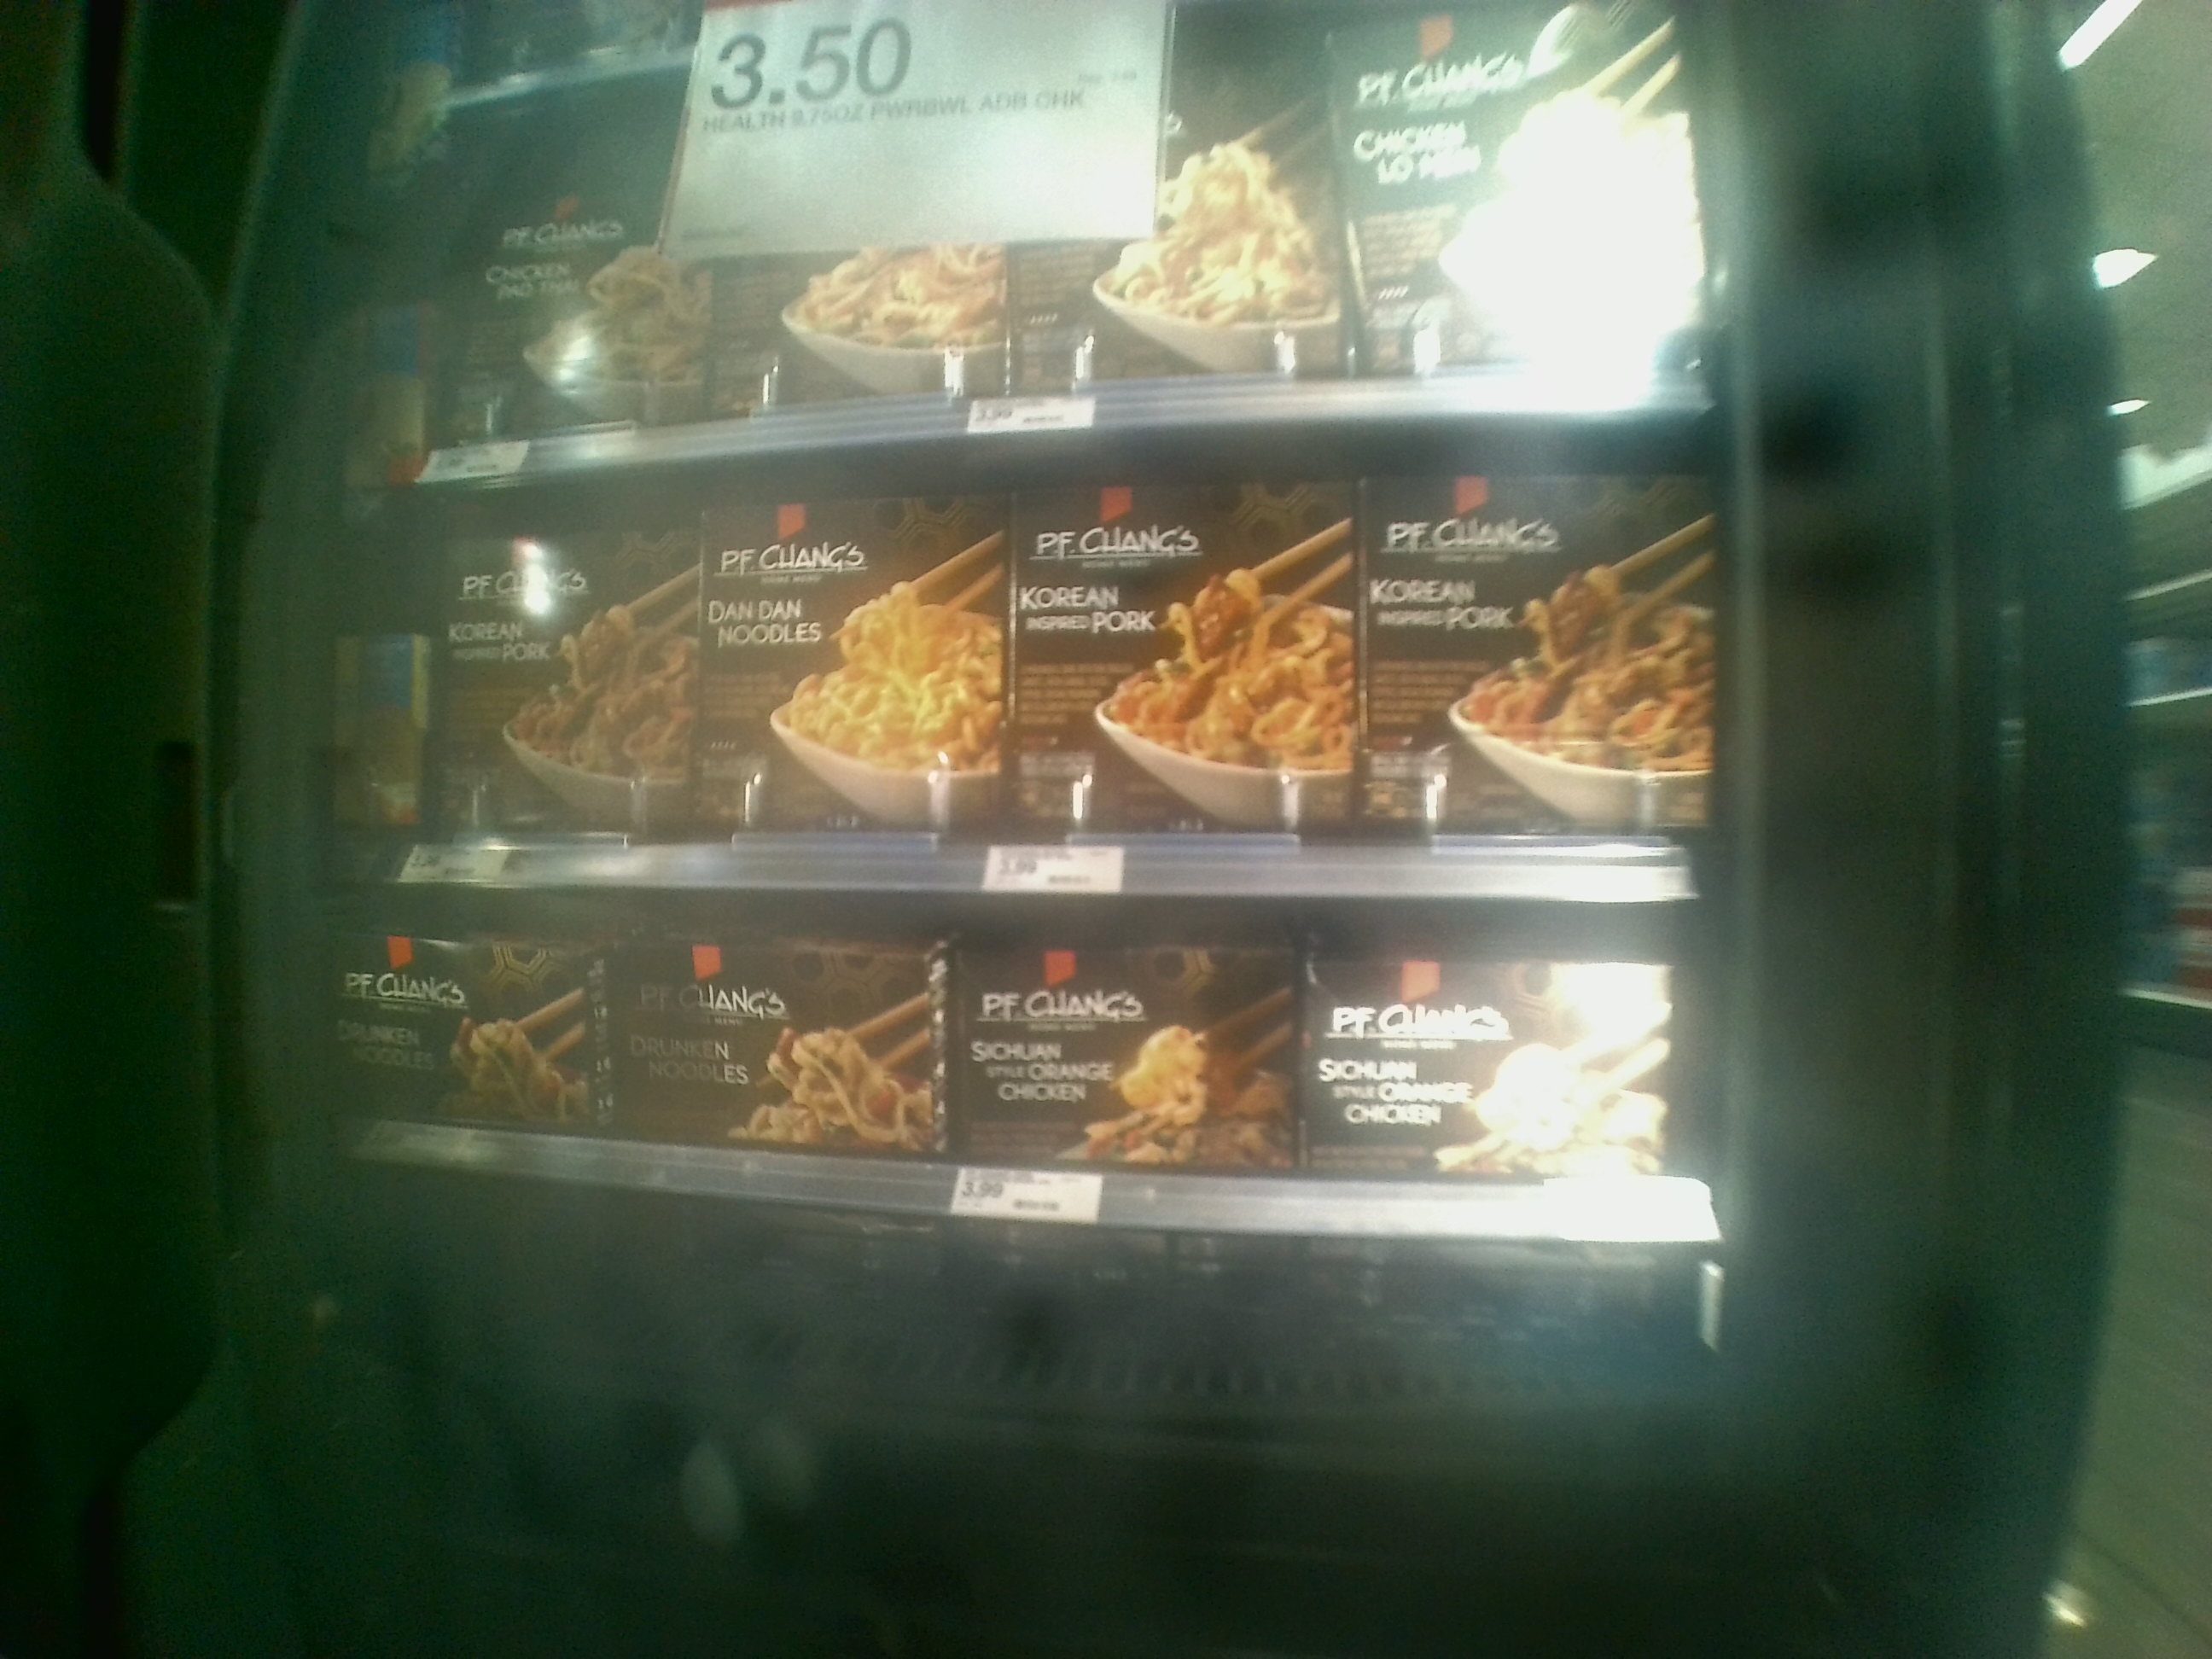shelf: (345, 857, 1733, 1236)
